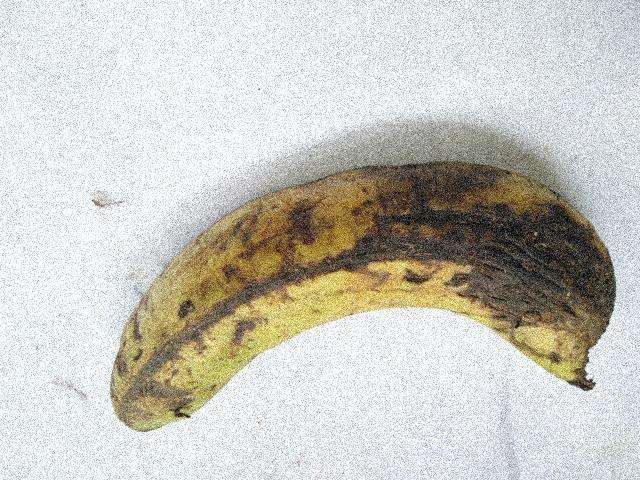rotten: (58, 141, 639, 442)
